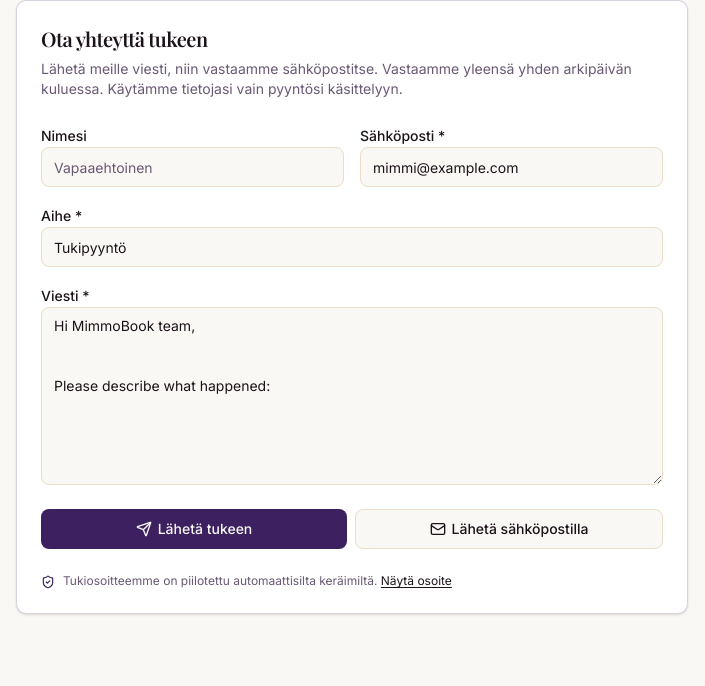
contact form in fi › asks the spam-check question in the chosen language
Expected: the heading "Ota yhteyttä tukeen" is shown, [41, 25, 208, 53]
Replace the text in the field with id "support-subject" with "Varaus puuttuu". click: (352, 247)
box: [41, 227, 663, 267]
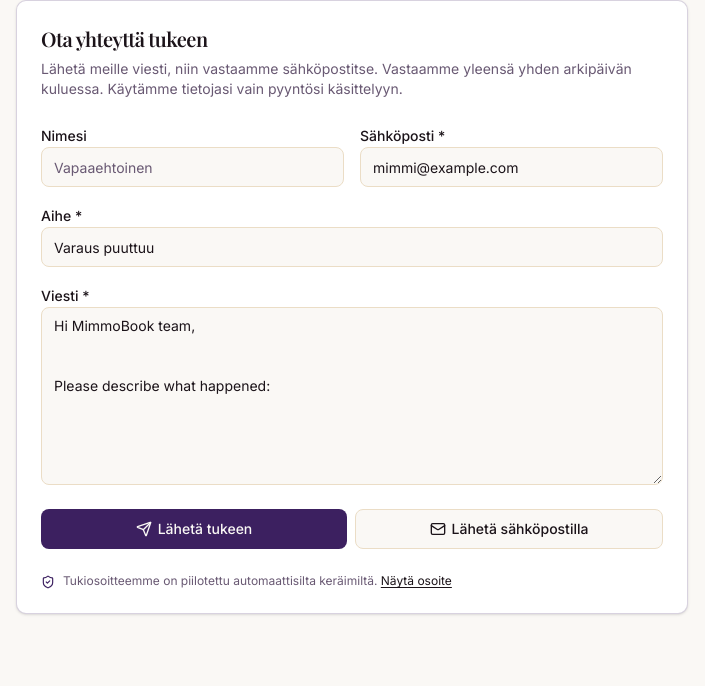
Replace the text in the text box with id "support-message" with "Asiakkaan varaus ei näy kalenterissa tänään.". click: (352, 396)
box: [41, 307, 663, 485]
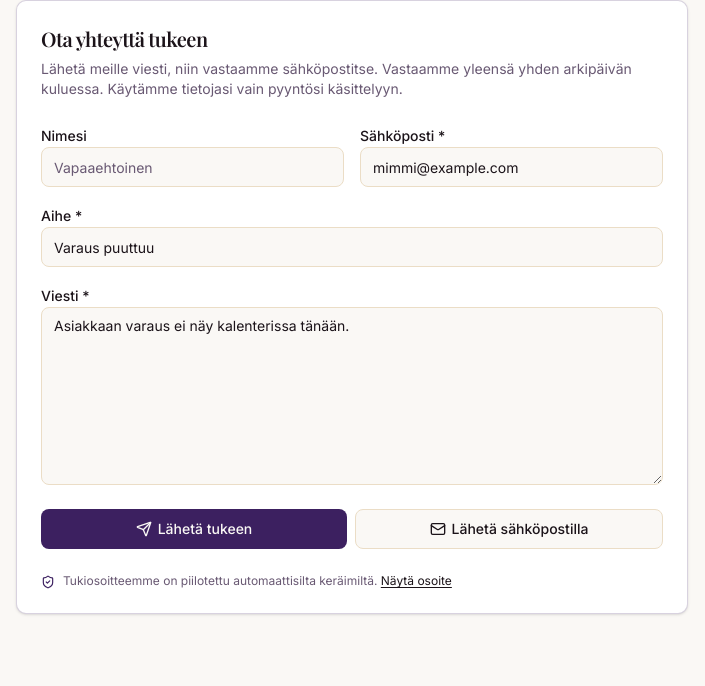
Submit the form with id "support-message", box [41, 123, 663, 589]
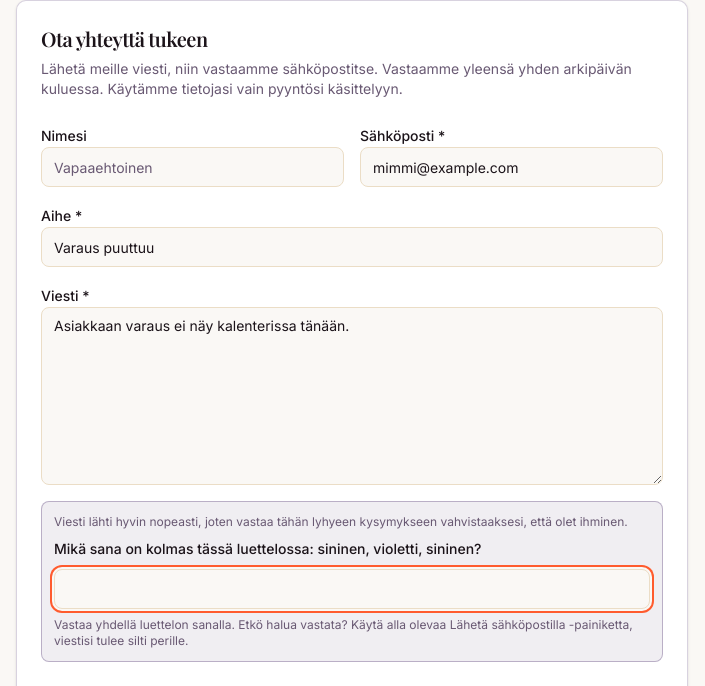
Expected: the text "Viesti lähti hyvin nopeasti, joten vastaa tähän lyhyeen kysymykseen vahvistaaksesi, että olet ihminen." is shown, [54, 514, 628, 529]
Expected: the 5th label reads "Mikä sana on kolmas tässä luettelossa: sininen, violetti, sininen?", [54, 540, 482, 557]
Expected: the text with id "support-challenge-hint" shows "Etkö halua vastata? Käytä alla olevaa Lähetä sähköpostilla -painiketta, viestisi tulee silti perille.", [54, 617, 633, 648]
